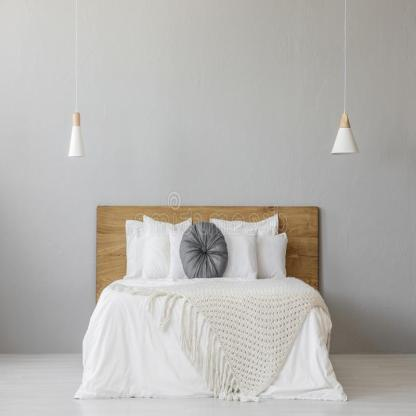bed: (85, 203, 351, 411)
light: (328, 4, 366, 162), (59, 7, 91, 163)
